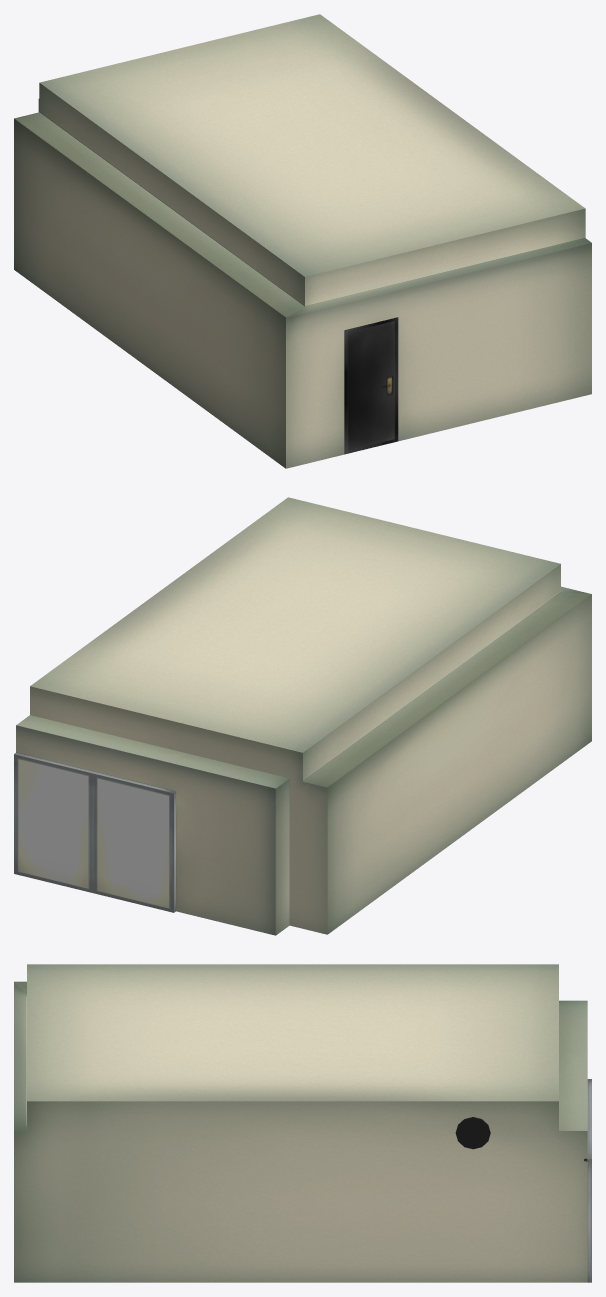
File: Bedroom 1 Wall.fbx
3 views of the same model, one above another, from view 1: azimuth 30°, elevation 25°; view 2: azimuth 150°, elevation 25°; view 3: azimuth 270°, elevation 25° (orthographic). The views are drawn at different scales.
Parts seen in each view (by area): view 1: Body; view 2: Body; view 3: Body.
Part boxes in pixels (x1=…): Body: x1=14, y1=14, x2=591, y2=468; Body: x1=14, y1=497, x2=591, y2=935; Body: x1=14, y1=964, x2=591, y2=1282.
Bounding box in the file's own units: 586 × 330 × 952.
